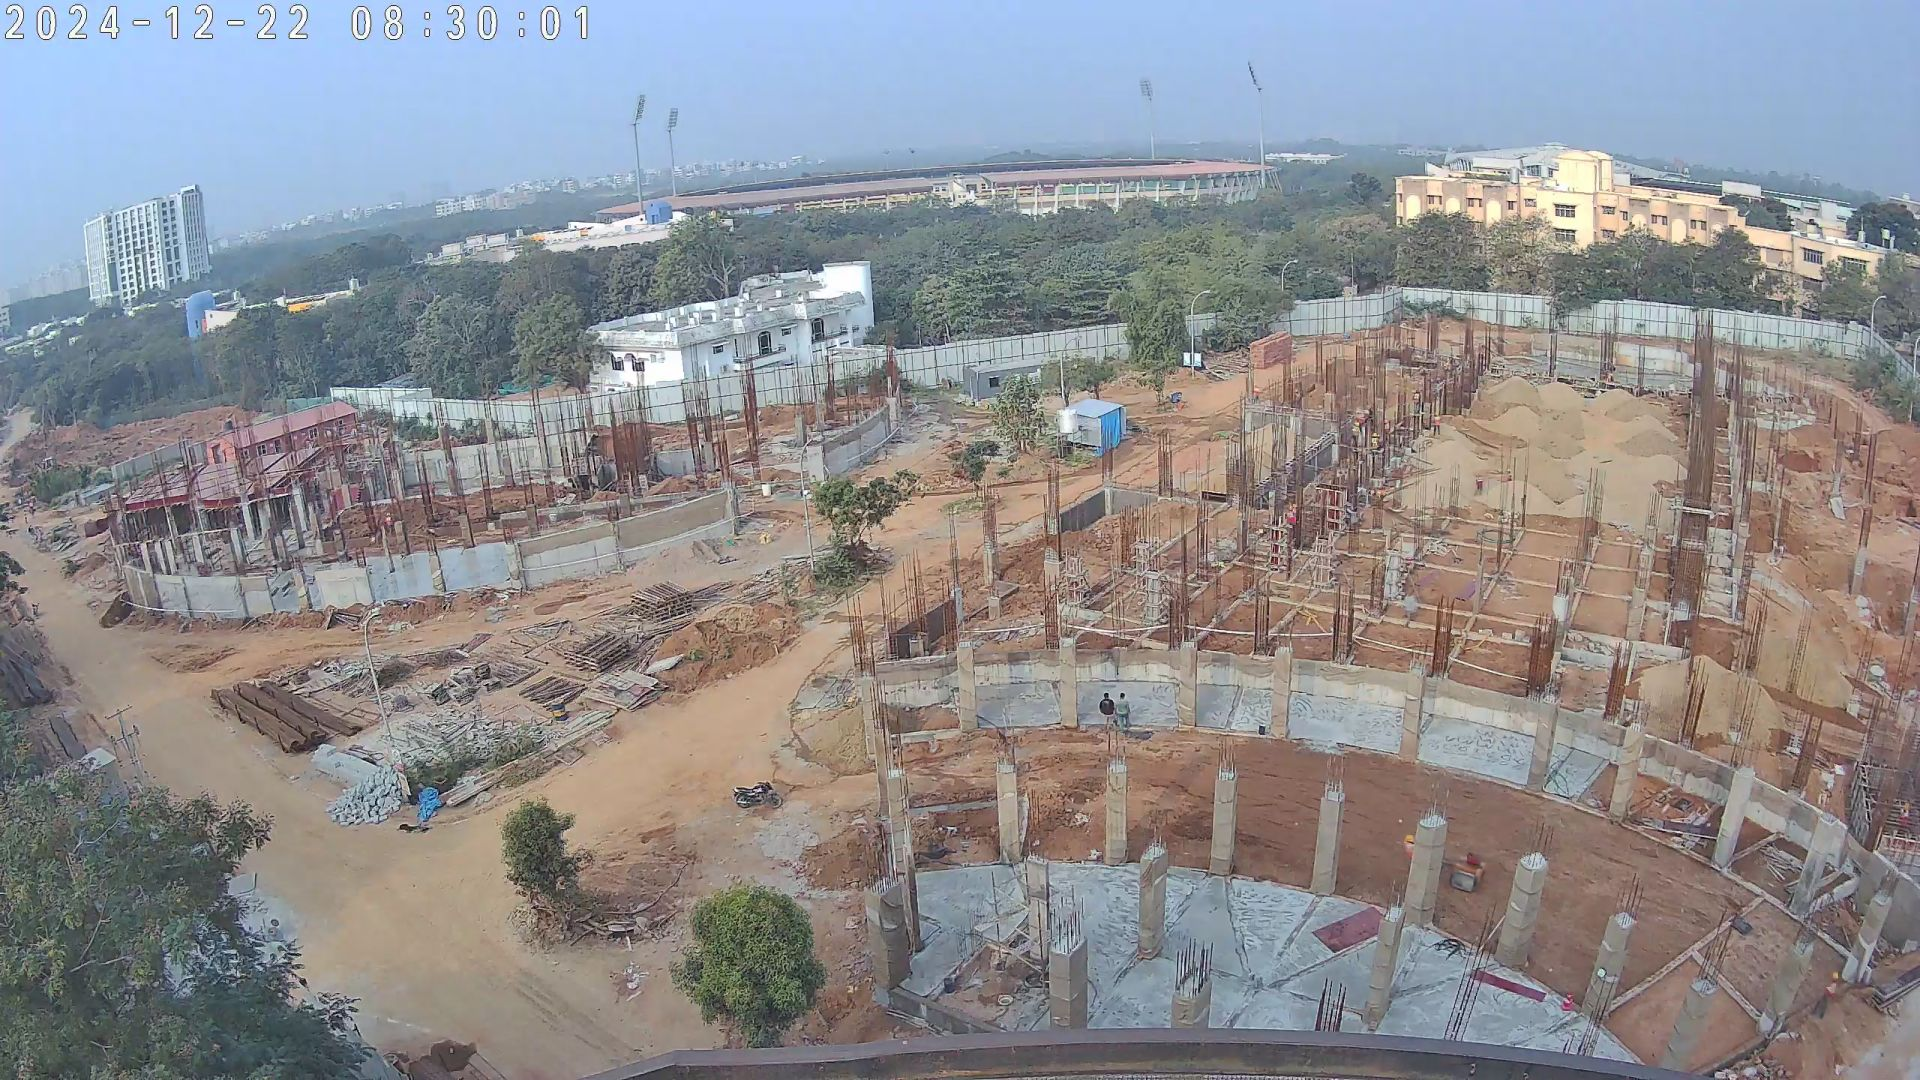bike: (727, 780, 787, 816)
worker: (1811, 967, 1840, 1023), (1100, 688, 1116, 736), (1114, 692, 1129, 737), (1471, 473, 1484, 500), (1284, 504, 1296, 527), (1350, 421, 1361, 446), (1412, 389, 1423, 413), (1383, 417, 1392, 442), (1252, 387, 1263, 406), (1371, 431, 1381, 451), (385, 511, 393, 534), (1433, 413, 1440, 437), (1294, 388, 1301, 409)
